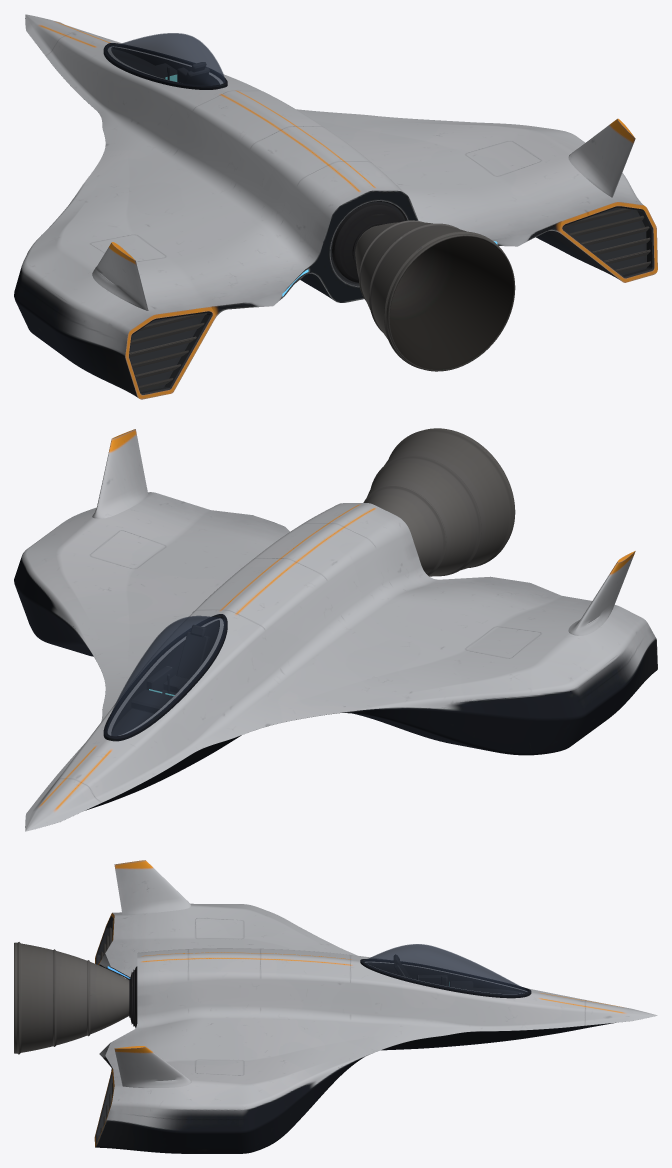
File: rocket_web_4k.glb
3 views of the same model, one above another, from view 1: azimuth 30°, elevation 25°; view 2: azimuth 150°, elevation 25°; view 3: azimuth 270°, elevation 25° (orthographic). The views are drawn at different scales.
Visible parts, largest first — view 1: Hull, Engine, Canopy, Fin_R, EngineBoot, Fin_L, ExitVanes_R, ExitVanes_L, Cockpit; view 2: Hull, Engine, Canopy, Fin_R, Cockpit, Fin_L; view 3: Hull, Engine, Canopy, Fin_L, Fin_R, Cockpit, EngineBoot.
Boxes of the visible parts, x1=… form: Hull: x1=14, y1=14, x2=657, y2=399; Engine: x1=355, y1=220, x2=515, y2=371; Canopy: x1=103, y1=33, x2=227, y2=89; Fin_R: x1=568, y1=118, x2=635, y2=197; EngineBoot: x1=332, y1=203, x2=403, y2=282; Fin_L: x1=92, y1=242, x2=148, y2=310; ExitVanes_R: x1=563, y1=208, x2=650, y2=273; ExitVanes_L: x1=129, y1=313, x2=207, y2=390; Cockpit: x1=138, y1=62, x2=209, y2=85; Hull: x1=14, y1=492, x2=657, y2=831; Engine: x1=363, y1=428, x2=515, y2=576; Canopy: x1=103, y1=614, x2=227, y2=741; Fin_R: x1=92, y1=429, x2=148, y2=518; Cockpit: x1=131, y1=625, x2=209, y2=713; Fin_L: x1=568, y1=551, x2=635, y2=635; Hull: x1=94, y1=903, x2=657, y2=1153; Engine: x1=14, y1=942, x2=129, y2=1054; Canopy: x1=360, y1=944, x2=531, y2=998; Fin_L: x1=114, y1=860, x2=191, y2=915; Fin_R: x1=114, y1=1046, x2=191, y2=1087; Cockpit: x1=393, y1=954, x2=473, y2=990; EngineBoot: x1=129, y1=966, x2=137, y2=1027.
Bounding box in the file's own units: 10.3 × 2.5 × 13.39.
6 materials, 1 textured.
